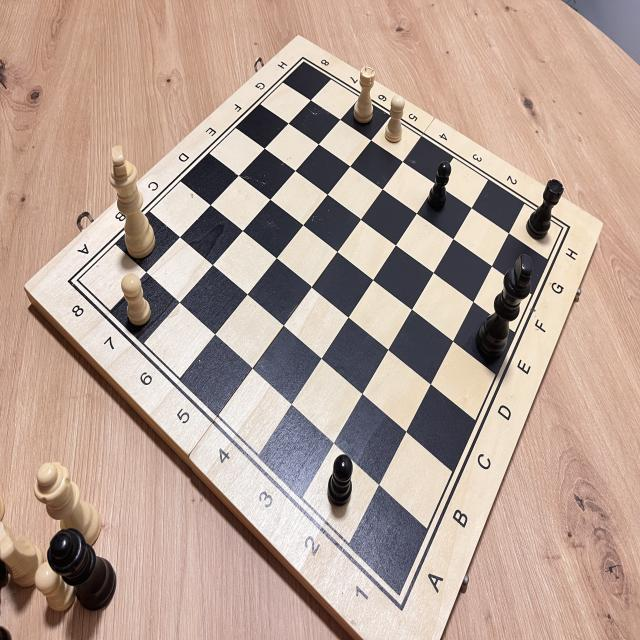black-king: (474, 244, 540, 375)
black-pawn: (322, 446, 358, 514), (425, 157, 455, 217)
black-rook: (522, 170, 568, 244)
white-king: (101, 137, 161, 260)
white-pawn: (118, 266, 158, 334), (382, 90, 409, 150)
white-rook: (348, 60, 380, 128)
